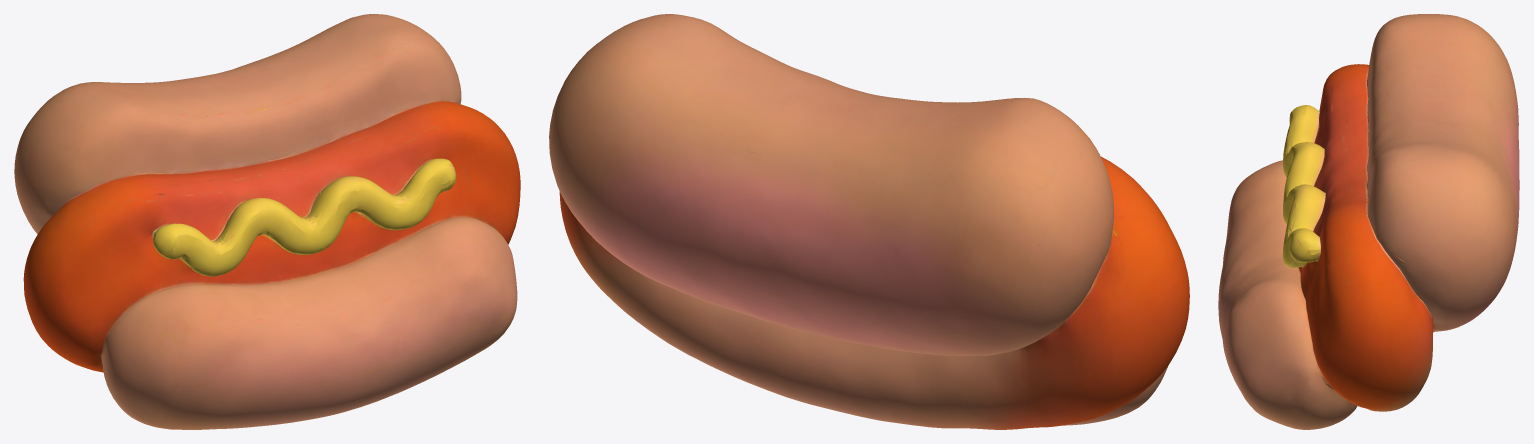
Rendered from hot-dog.glb.
3 renders of one model, left to right at view 1: azimuth 30°, elevation 25°; view 2: azimuth 150°, elevation 25°; view 3: azimuth 270°, elevation 25°, orthographic. The views are drawn at different scales.
Parts seen in each view (by area): view 1: Mesh; view 2: Mesh; view 3: Mesh.
Part boxes in pixels (bbox=[...]): Mesh: bbox=[14, 14, 520, 429]; Mesh: bbox=[549, 14, 1189, 429]; Mesh: bbox=[1218, 14, 1519, 429].
Size of the model in its own units: 1 by 0.6042 by 0.5596.
Materials: 1 (1 with a texture image).
